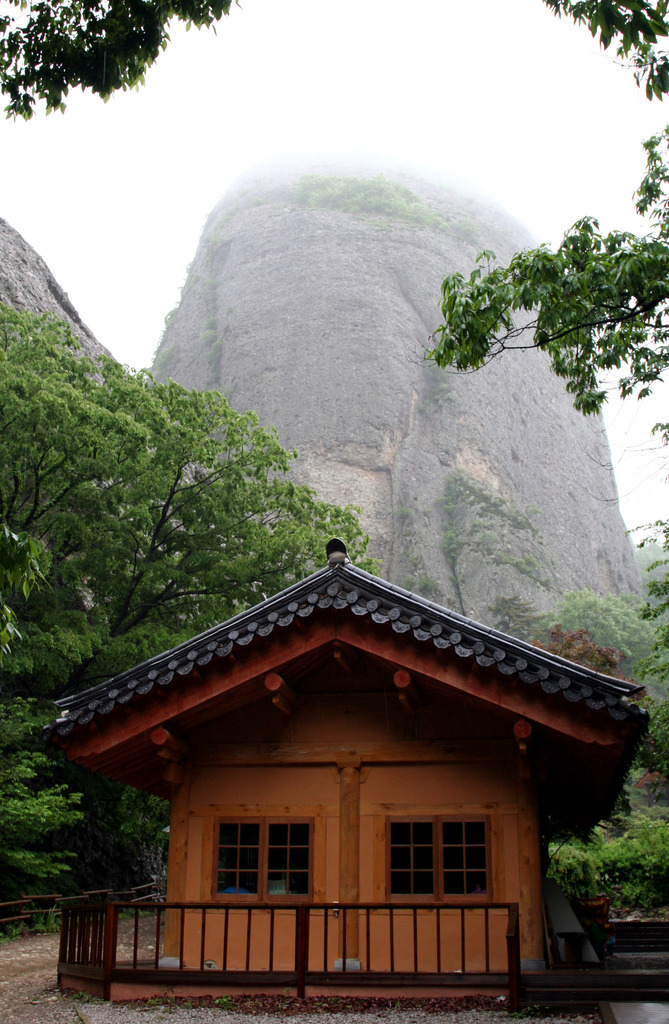Tree: (0, 0, 669, 932), (1, 294, 377, 901)
